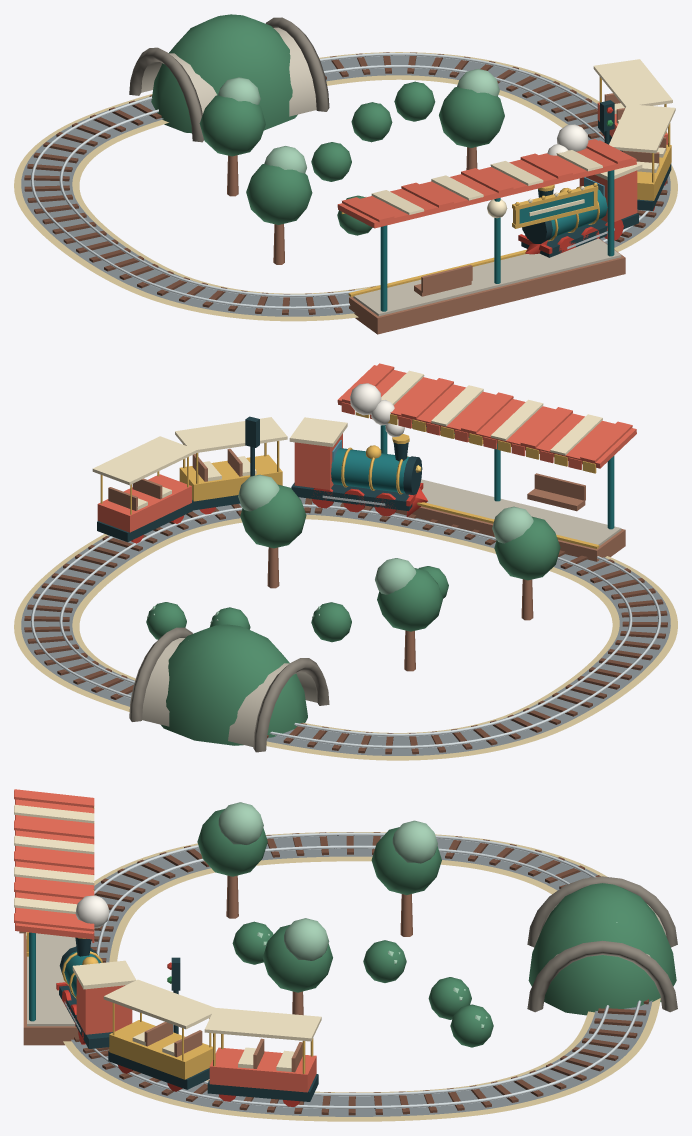
Rendered from ride_train.glb.
3 views of the same model, one above another, from view 1: azimuth 30°, elevation 25°; view 2: azimuth 150°, elevation 25°; view 3: azimuth 270°, elevation 25° (orthographic). The views are drawn at different scales.
Visible parts, largest first — view 1: ride_train; view 2: ride_train; view 3: ride_train.
Boxes of the visible parts, x1,y1,x2,y2 form: ride_train: [14, 14, 677, 334]; ride_train: [14, 363, 677, 760]; ride_train: [14, 789, 677, 1121].
Size of the model in its own units: 15.75 by 3.51 by 15.25.
